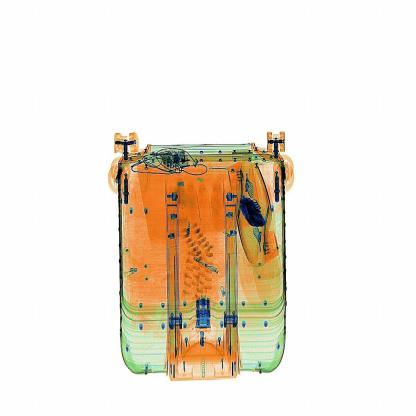scissors: (236, 190, 270, 235)
